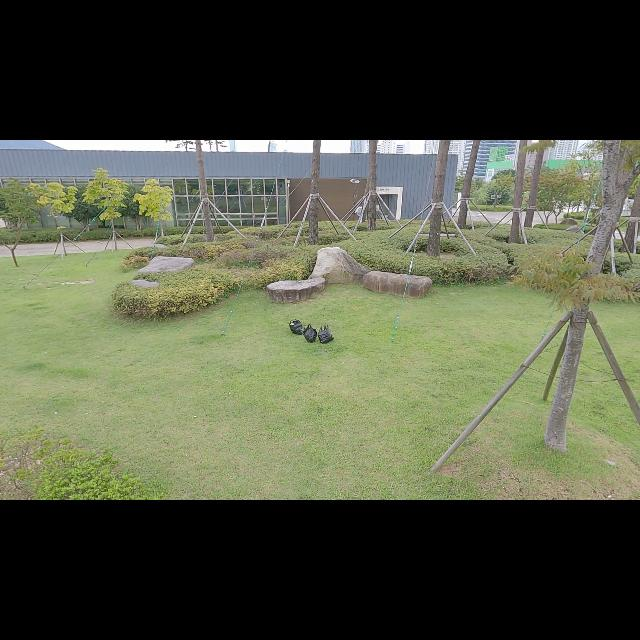trash: (318, 322, 334, 343), (304, 323, 318, 342), (289, 320, 305, 334)
